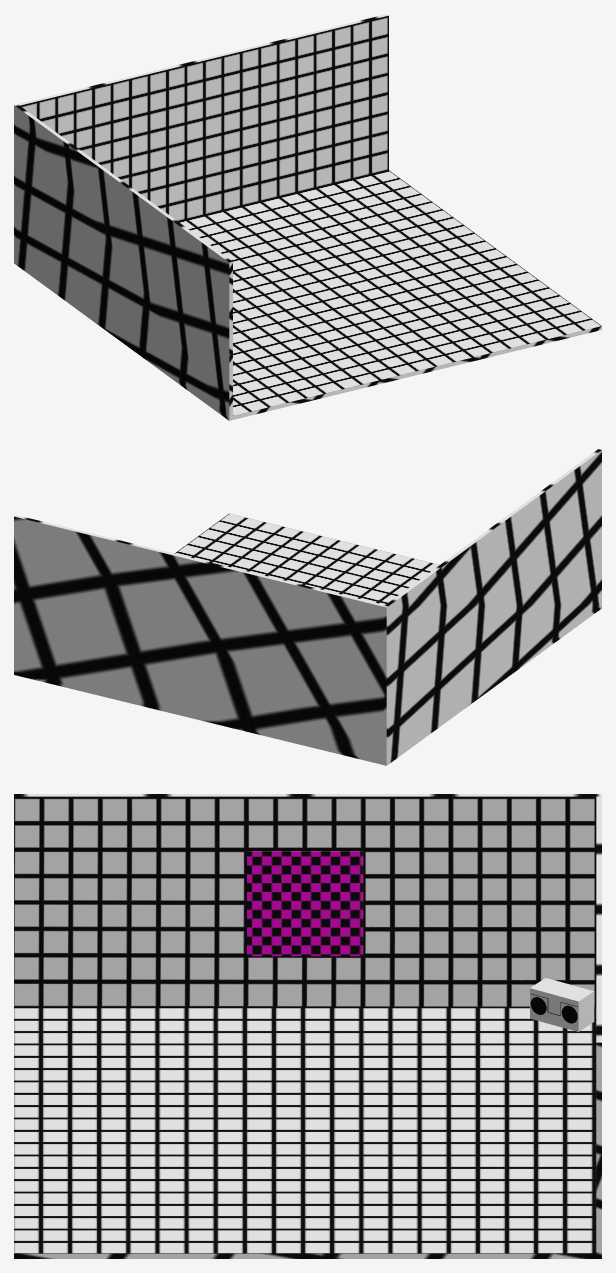
The model's file is TestScene.obj.
The picture shows the model from 3 angles, top to bottom: view 1: azimuth 30°, elevation 25°; view 2: azimuth 150°, elevation 25°; view 3: azimuth 270°, elevation 25°; orthographic projection. The views are drawn at different scales.
Visible parts, largest first — view 1: Cube.001; view 2: Cube.001; view 3: Cube.001, Plane.001, Cube_Cube.001.
Boxes of the visible parts, box(x1,y1,x2,y2) form: Cube.001: box(14, 14, 601, 420); Cube.001: box(14, 449, 601, 765); Cube.001: box(14, 794, 601, 1258); Plane.001: box(247, 851, 363, 956); Cube_Cube.001: box(530, 978, 594, 1031).
Bounding box in the file's own units: 10.1 × 4.1 × 10.1.
3 materials, 3 textured.
